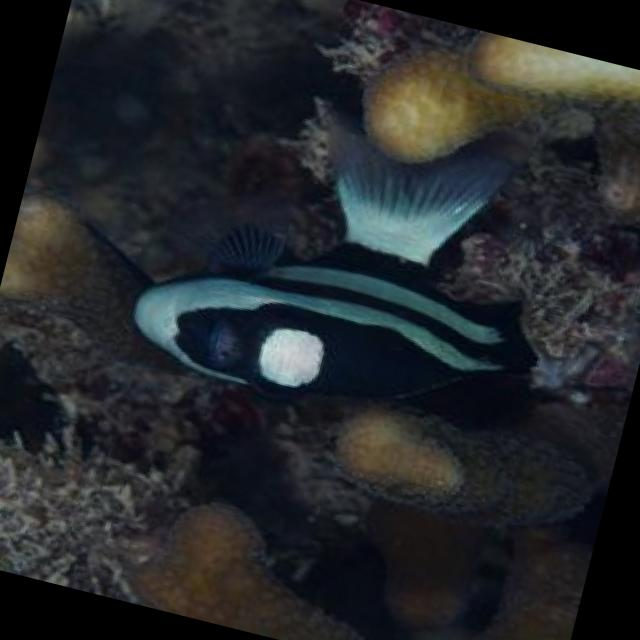ThreeStripedDamselfish: (128, 134, 534, 414)
